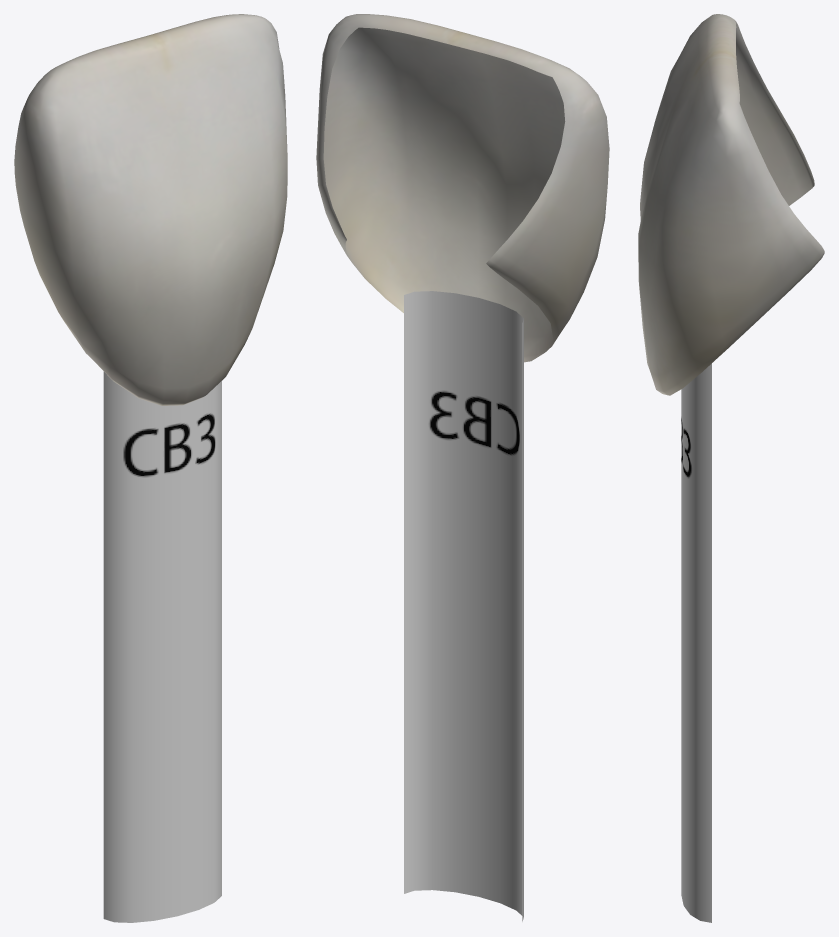
3 views of the same model, side by side, from view 1: azimuth 30°, elevation 25°; view 2: azimuth 150°, elevation 25°; view 3: azimuth 270°, elevation 25° (orthographic). The views are drawn at different scales.
Visible parts, largest first — view 1: Tab; view 2: Tab; view 3: Tab.
Boxes of the visible parts, x1=… form: Tab: x1=14, y1=14, x2=287, y2=922; Tab: x1=316, y1=14, x2=609, y2=921; Tab: x1=638, y1=14, x2=824, y2=922.
Size of the model in its own units: 0.00859 by 0.0273 by 0.00547.
Materials: 1 (1 with a texture image).
